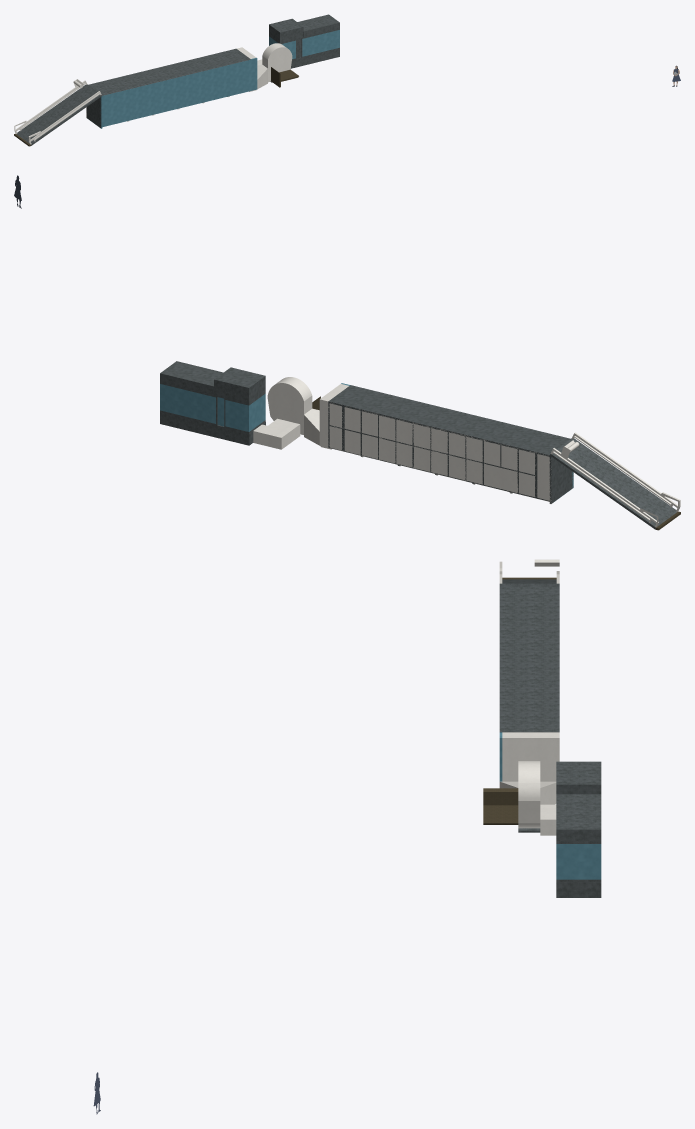
File: bio-dehydrator.glb
The picture shows the model from 3 angles, top to bottom: view 1: azimuth 30°, elevation 25°; view 2: azimuth 150°, elevation 25°; view 3: azimuth 270°, elevation 25°; orthographic projection. The views are drawn at different scales.
Parts seen in each view (by area): view 1: 52602, 145677, 58675, 53359; view 2: 58675, 52602, 145677; view 3: 52602, 58675, 145677, 53359.
Part boxes in pixels (x1,y1,x2,y2): 52602: (17,14,339,145); 145677: (100,30,339,128); 58675: (14,43,292,144); 53359: (14,67,298,146); 58675: (253,377,680,527); 52602: (160,361,676,529); 145677: (160,383,573,498); 52602: (499,579,601,897); 58675: (499,559,559,835); 145677: (499,732,601,879); 53359: (483,577,556,824).
Size of the model in its own units: 43.84 by 3.13 by 17.5.
Materials: 25 (4 with a texture image).
